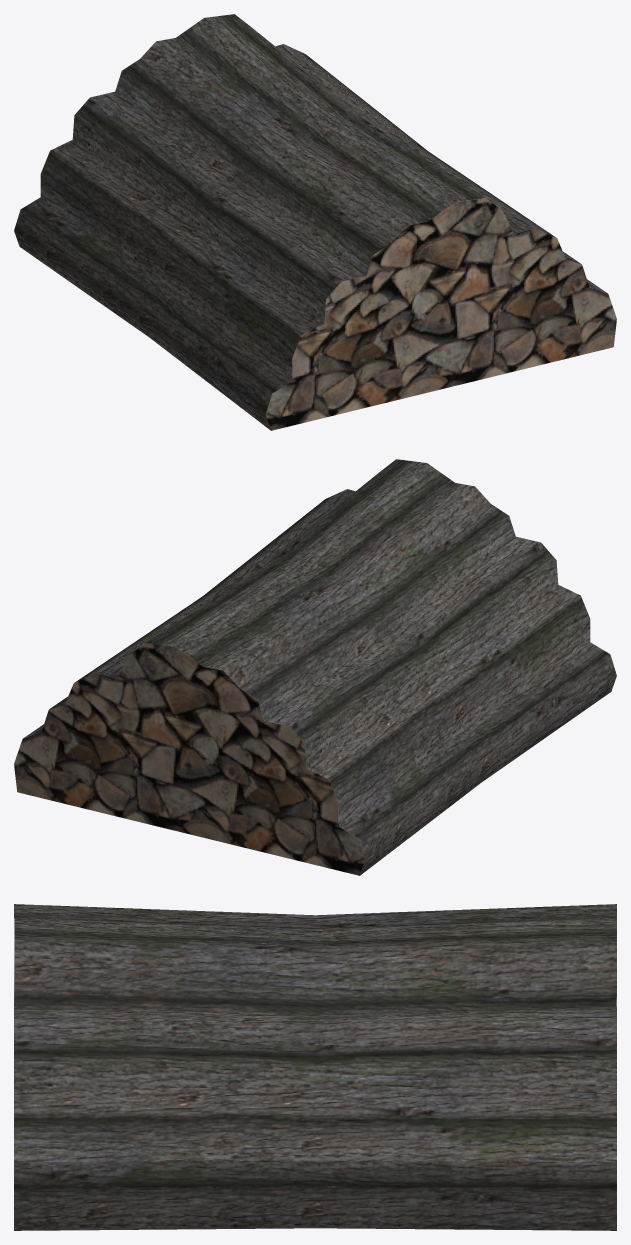
The model's file is WoodPile_01.FBX.
The picture shows the model from 3 angles, top to bottom: view 1: azimuth 30°, elevation 25°; view 2: azimuth 150°, elevation 25°; view 3: azimuth 270°, elevation 25°; orthographic projection. The views are drawn at different scales.
Visible parts, largest first — view 1: WoodPile_01; view 2: WoodPile_01; view 3: WoodPile_01.
Part boxes in pixels (x1,y1,x2,y2): WoodPile_01: [14, 14, 616, 430]; WoodPile_01: [14, 459, 616, 875]; WoodPile_01: [14, 904, 616, 1230].
Size of the model in its own units: 30.1 by 15.05 by 37.32.
